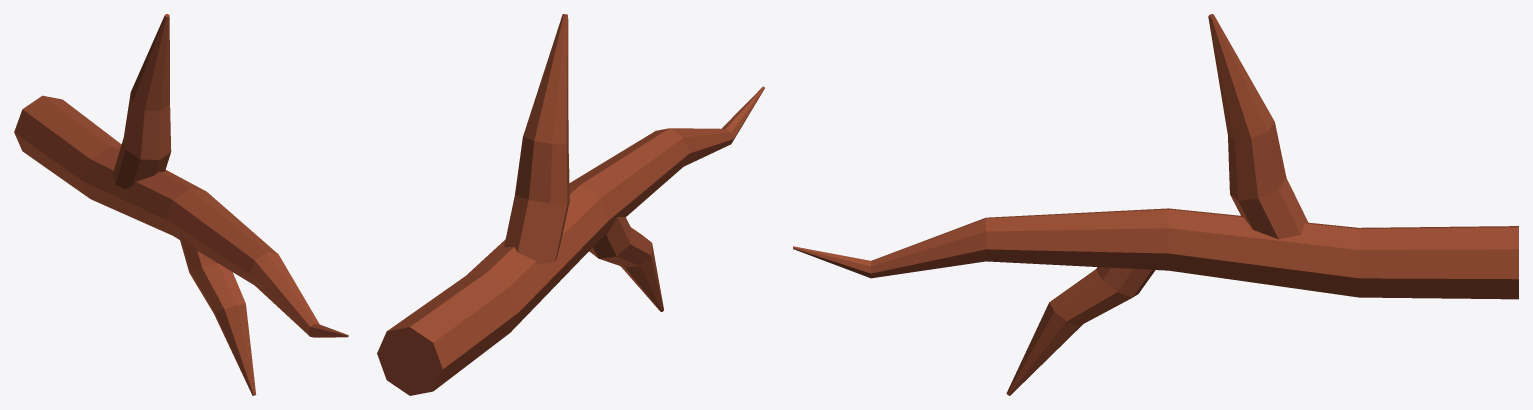
File: Branch6.fbx
The picture shows the model from 3 angles, left to right: view 1: azimuth 30°, elevation 25°; view 2: azimuth 150°, elevation 25°; view 3: azimuth 270°, elevation 25°; orthographic projection. The views are drawn at different scales.
Parts seen in each view (by area): view 1: Branch; view 2: Branch; view 3: Branch.
Part boxes in pixels (x1,y1,x2,y2): Branch: [14, 14, 348, 395]; Branch: [377, 14, 764, 395]; Branch: [793, 14, 1518, 395].
Size of the model in its own units: 99.73 by 536 by 928.
